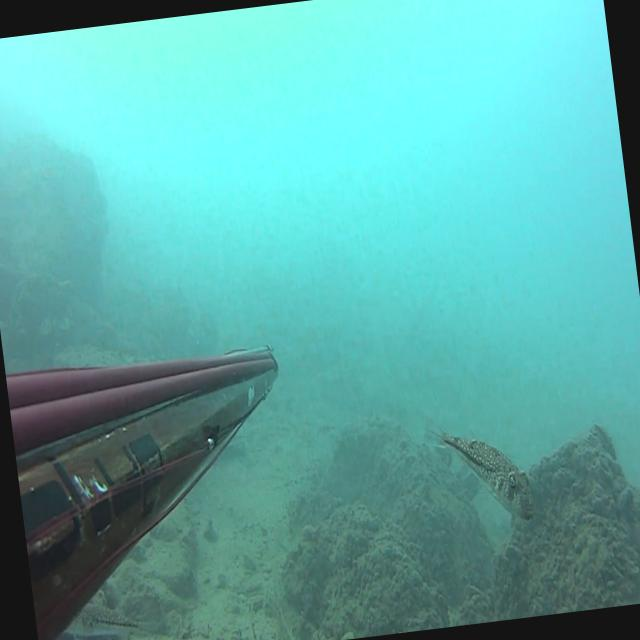Balon Baligi: (423, 404, 534, 529), (57, 591, 159, 640)
